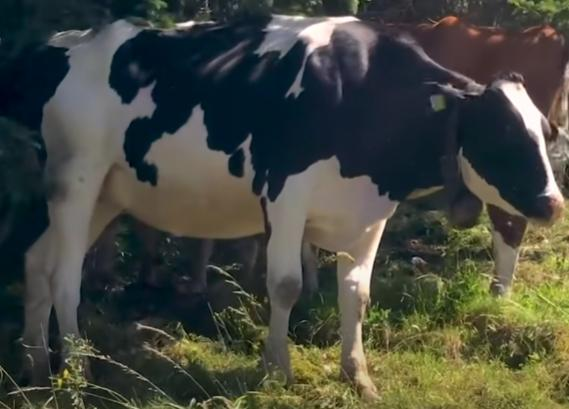cow: (25, 15, 569, 400), (359, 14, 569, 300)
